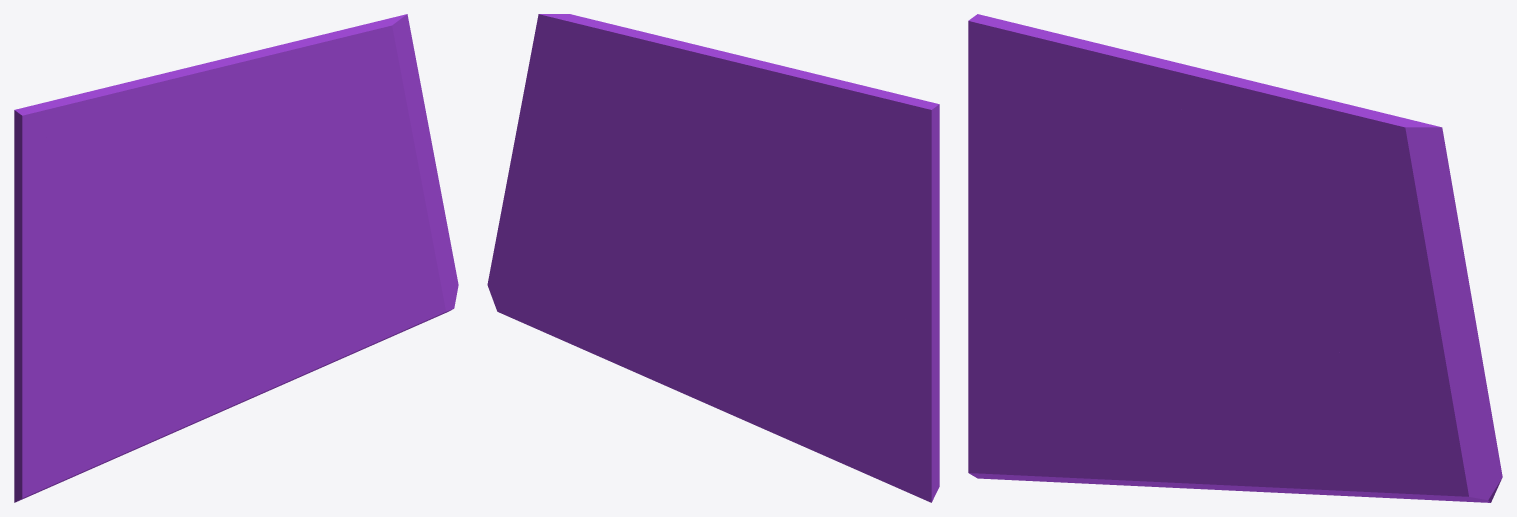
Rendered from Glass_4_0_chunks.fbx.
3 renders of one model, left to right at view 1: azimuth 30°, elevation 25°; view 2: azimuth 150°, elevation 25°; view 3: azimuth 330°, elevation 25°, orthographic. The views are drawn at different scales.
Visible parts, largest first — view 1: Glass_4_0_3, Glass_4_0_2, Glass_4_0_4, Glass_4_0_11, Glass_4_0_14, Glass_4_0_13, Glass_4_0_10, Glass_4_0_9, Glass_4_0_15, Glass_4_0_6, Glass_4_0_7, Glass_4_0_0 (+2 smaller); view 2: Glass_4_0_3, Glass_4_0_14, Glass_4_0_10, Glass_4_0_13, Glass_4_0_9, Glass_4_0_1, Glass_4_0_4, Glass_4_0_11, Glass_4_0_8, Glass_4_0_5, Glass_4_0_15, Glass_4_0_2 (+3 smaller); view 3: Glass_4_0_3, Glass_4_0_2, Glass_4_0_11, Glass_4_0_4, Glass_4_0_10, Glass_4_0_14, Glass_4_0_13, Glass_4_0_9, Glass_4_0_6, Glass_4_0_15, Glass_4_0_7, Glass_4_0_0 (+2 smaller).
Boxes of the visible parts, box(x1,y1,x2,y2) form: Glass_4_0_3: box(18, 70, 263, 269); Glass_4_0_2: box(91, 233, 267, 467); Glass_4_0_4: box(147, 245, 357, 444); Glass_4_0_11: box(296, 14, 428, 161); Glass_4_0_14: box(14, 109, 129, 306); Glass_4_0_13: box(14, 302, 102, 502); Glass_4_0_10: box(176, 59, 328, 225); Glass_4_0_9: box(303, 125, 444, 224); Glass_4_0_15: box(74, 240, 152, 431); Glass_4_0_6: box(349, 236, 458, 351); Glass_4_0_7: box(327, 212, 449, 288); Glass_4_0_0: box(263, 221, 416, 260); Glass_4_0_3: box(690, 63, 933, 262); Glass_4_0_14: box(826, 103, 939, 299); Glass_4_0_10: box(631, 48, 772, 247); Glass_4_0_13: box(857, 293, 939, 502); Glass_4_0_9: box(501, 124, 666, 244); Glass_4_0_1: box(754, 255, 874, 477); Glass_4_0_4: box(609, 239, 799, 444); Glass_4_0_11: box(517, 14, 664, 143); Glass_4_0_8: box(605, 34, 721, 160); Glass_4_0_5: box(580, 286, 773, 433); Glass_4_0_15: box(804, 235, 878, 422); Glass_4_0_2: box(683, 234, 794, 434); Glass_4_0_3: box(974, 15, 1253, 298); Glass_4_0_2: box(1050, 278, 1258, 485); Glass_4_0_11: box(1292, 100, 1466, 279); Glass_4_0_4: box(1133, 334, 1363, 487); Glass_4_0_10: box(1166, 60, 1330, 310); Glass_4_0_14: box(968, 14, 1094, 276); Glass_4_0_13: box(968, 244, 1062, 481); Glass_4_0_9: box(1299, 252, 1486, 383); Glass_4_0_6: box(1354, 410, 1502, 502); Glass_4_0_15: box(1029, 230, 1122, 440); Glass_4_0_7: box(1329, 350, 1491, 418); Glass_4_0_0: box(1253, 289, 1434, 373).
Size of the model in its own units: 880 by 744 by 27.2.
